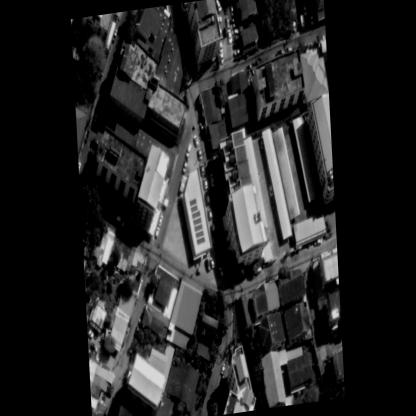solar-pv-panel: (190, 198, 205, 244)
